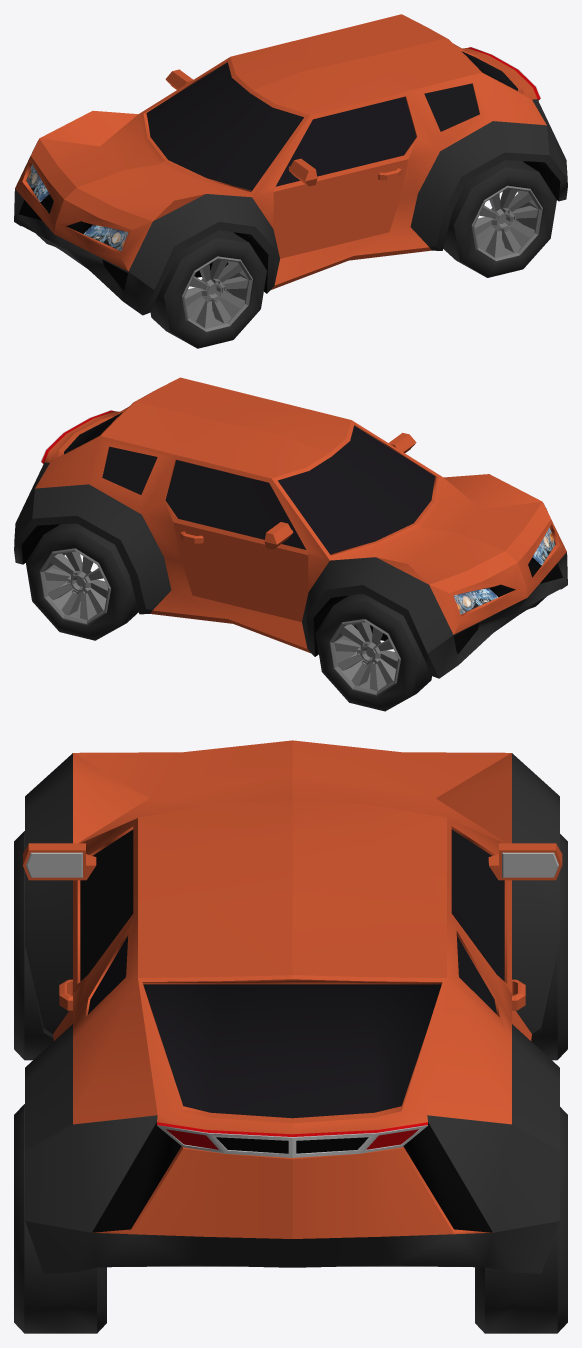
Rendered from Car.gltf.
The picture shows the model from 3 angles, top to bottom: view 1: azimuth 30°, elevation 25°; view 2: azimuth 150°, elevation 25°; view 3: azimuth 270°, elevation 25°; orthographic projection. The views are drawn at different scales.
Visible parts, largest first — view 1: Circle, Circle.004_Circle.013, Circle.001_Circle.002, Circle.002_Circle.012, Circle.003_Circle.005; view 2: Circle, Circle.008_Circle.017, Circle.005_Circle.014, Circle.007_Circle.016, Circle.006_Circle.015; view 3: Circle, Circle.004_Circle.013, Circle.005_Circle.014, Circle.001_Circle.002, Circle.008_Circle.017.
Part boxes in pixels (x1,y1,x2,y2): Circle: [14, 14, 567, 315]; Circle.004_Circle.013: [443, 160, 556, 277]; Circle.001_Circle.002: [150, 230, 266, 348]; Circle.002_Circle.012: [471, 185, 542, 261]; Circle.003_Circle.005: [182, 256, 252, 332]; Circle: [14, 377, 567, 678]; Circle.008_Circle.017: [315, 593, 431, 711]; Circle.005_Circle.014: [26, 523, 138, 640]; Circle.007_Circle.016: [329, 619, 400, 695]; Circle.006_Circle.015: [40, 548, 110, 624]; Circle: [23, 740, 562, 1273]; Circle.004_Circle.013: [14, 1104, 106, 1333]; Circle.005_Circle.014: [475, 1107, 567, 1333]; Circle.001_Circle.002: [14, 831, 53, 1060]; Circle.008_Circle.017: [531, 834, 567, 1060].
Size of the model in its own units: 6.58 by 2.5 by 3.48.
Materials: 10 (1 with a texture image).
